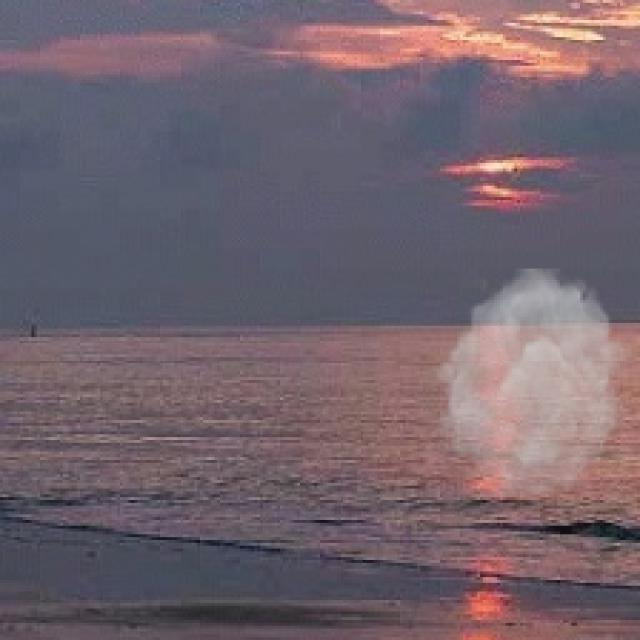Smoke: (428, 268, 634, 494)
